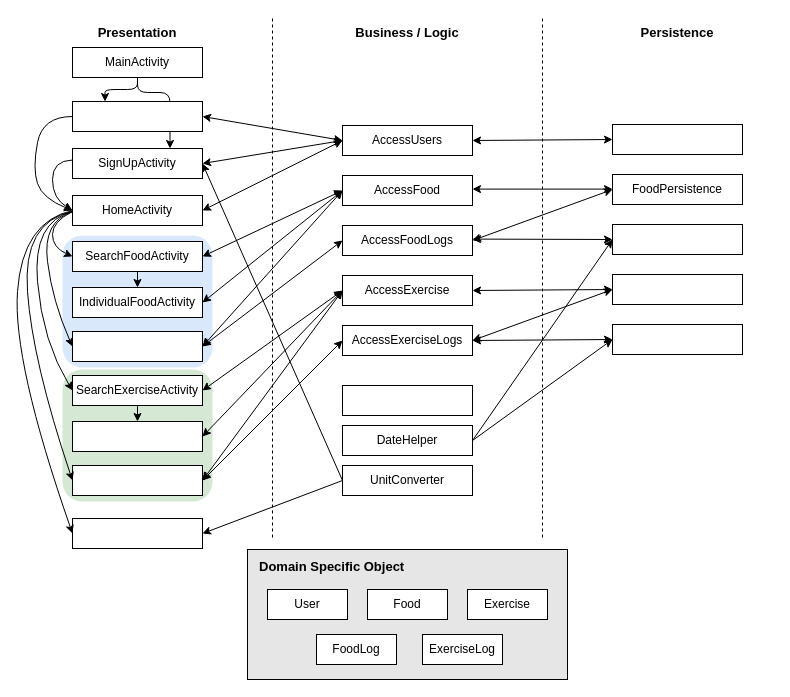
The diagram is 790 pixels wide and 697 high, and some of its shapes have lost their labels. The centre of each missing label's shape, as x and y in pixels:
"DailyCaloricNeeds" goes at pixel 407 400.
"ExerciseLogActivity" goes at pixel 137 480.
"ExerciseLogsPersistence" goes at pixel 677 339.
"ExercisePersistence" goes at pixel 677 289.
"FoodLogActivity" goes at pixel 137 346.
"FoodLogsPersistence" goes at pixel 677 239.
"IndividualExerciseActivity" goes at pixel 137 436.
"LogInActivity" goes at pixel 137 116.
"UpdateUserInfoActivity" goes at pixel 137 533.
"UserPersistence" goes at pixel 677 139.
